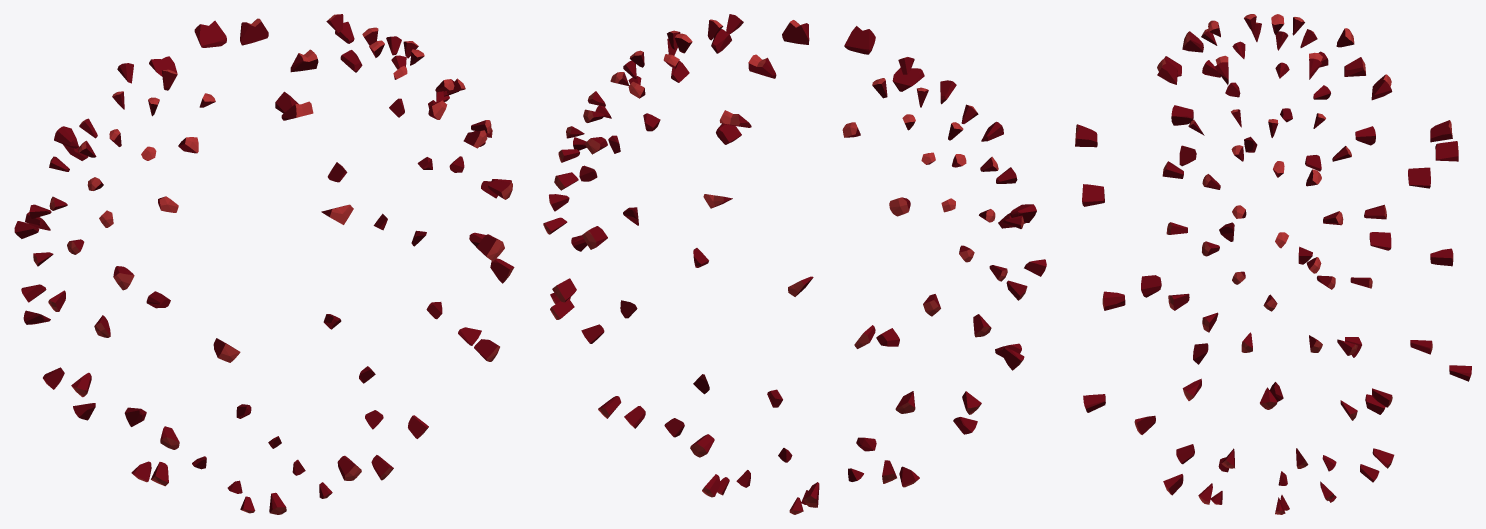
Rendered from heartBOOM.glb.
3 renders of one model, left to right at view 1: azimuth 30°, elevation 25°; view 2: azimuth 150°, elevation 25°; view 3: azimuth 270°, elevation 25°, orthographic.
Parts seen in each view (by area): view 1: Love_cell.074, Love_cell.049; view 2: Love_cell.036; view 3: Love_cell.082, Love_cell.011, Love_cell.028.
Part boxes in pixels (x1,y1,x2,y2): Love_cell.074: (194, 20, 226, 47); Love_cell.049: (240, 18, 268, 45); Love_cell.036: (844, 26, 875, 54); Love_cell.082: (1082, 184, 1104, 206); Love_cell.011: (1435, 141, 1458, 161); Love_cell.028: (1408, 167, 1430, 188).
Bounding box in the file's own units: 22.31 × 21.47 × 17.37.
